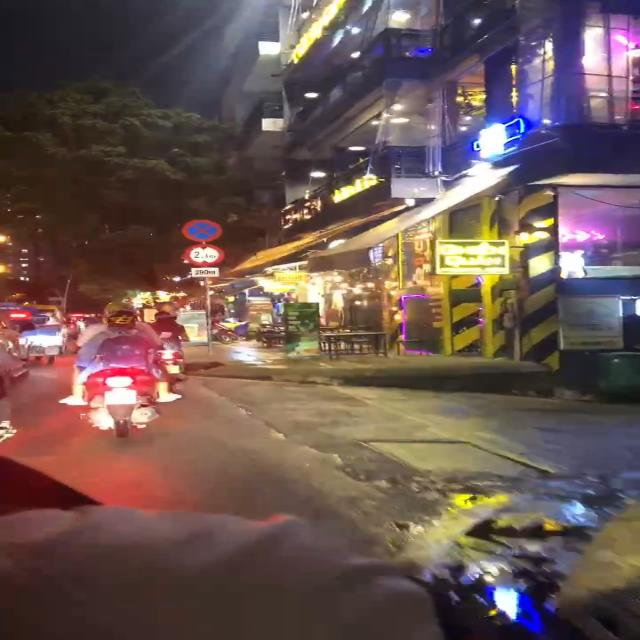Bien bao cam dung xe va do xe: (182, 219, 232, 244)
